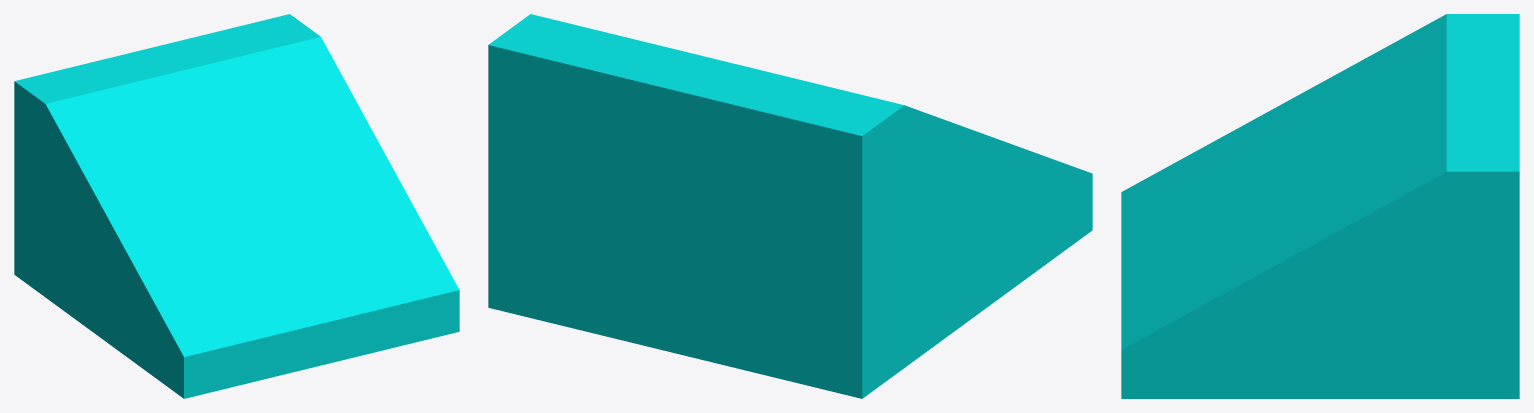
The model's file is SM_Env_Stone_Stairs_03_Collision.fbx.
3 views of the same model, side by side, from view 1: azimuth 30°, elevation 25°; view 2: azimuth 150°, elevation 25°; view 3: azimuth 270°, elevation 25° (orthographic). The views are drawn at different scales.
Parts seen in each view (by area): view 1: SM_Env_Stone_Stairs_03_Collision; view 2: SM_Env_Stone_Stairs_03_Collision; view 3: SM_Env_Stone_Stairs_03_Collision.
Boxes of the visible parts, x1=… form: SM_Env_Stone_Stairs_03_Collision: x1=14, y1=14, x2=459, y2=398; SM_Env_Stone_Stairs_03_Collision: x1=488, y1=14, x2=1092, y2=398; SM_Env_Stone_Stairs_03_Collision: x1=1121, y1=14, x2=1519, y2=398.
Size of the model in its own units: 253 by 170 by 270.
